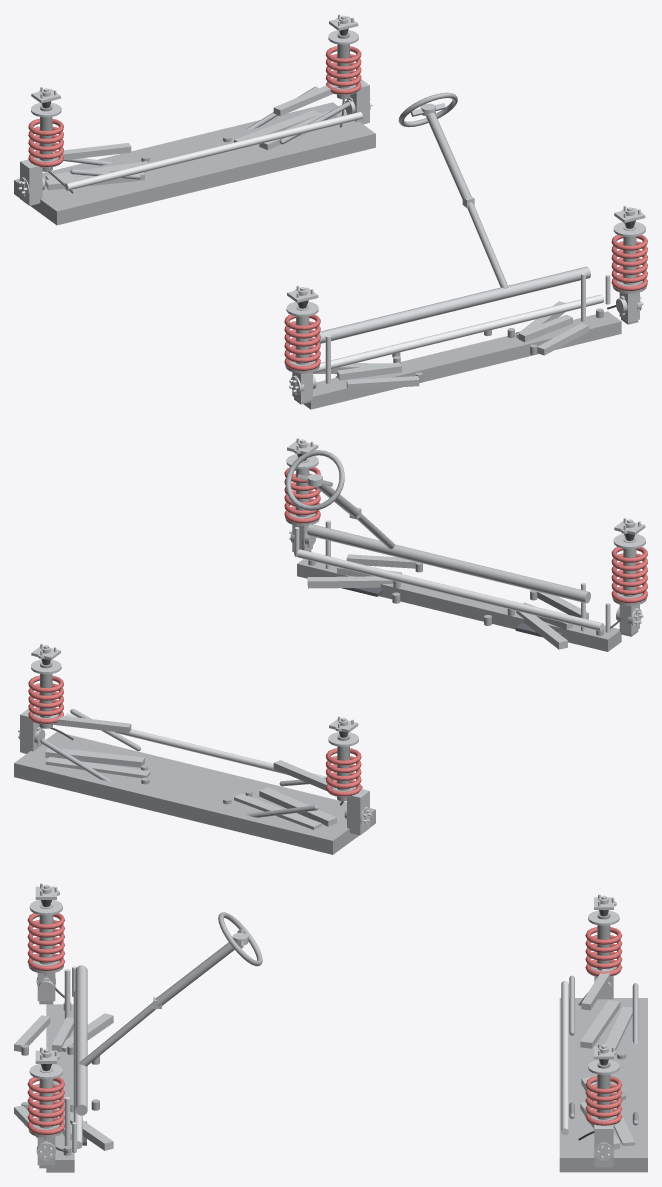
Rendered from susp.glb.
3 renders of one model, top to bottom at view 1: azimuth 30°, elevation 25°; view 2: azimuth 150°, elevation 25°; view 3: azimuth 270°, elevation 25°, orthographic. The views are drawn at different scales.
Visible parts, largest first — view 1: rearSubframe, frontSubframe, steeringRack, frontAntiRollBar, rearAntiRollBar, steeringColumnUpper, frontLowerControlArmLeft_fwd, rearWheelCarrierLeft_body, steeringColumnLower, rearArmUpper_Left, steeringWheelRim, frontLowerControlArmLeft_aft (+5 smaller); view 2: rearSubframe, frontSubframe, steeringRack, frontAntiRollBar, rearAntiRollBar, steeringWheelRim, rearArmLower_Right, frontTrailingArmRight_arm, rearArmLower_Left, rearTrailingArmRight_arm, rearArmUpper_Right, rearWheelCarrierLeft_body (+5 smaller); view 3: rearSubframe, frontSubframe, steeringRack, rearAntiRollBar, steeringColumnUpper, rearArmLower_Left, steeringWheelRim, steeringColumnLower, frontAntiRollBar, rearWheelCarrierRight_body, rearTrailingArmLeft_arm, rearArmUpper_Left (+7 smaller).
Part boxes in pixels (x1,y1,x2,y2): rearSubframe: (14, 102, 375, 225); frontSubframe: (303, 311, 621, 409); steeringRack: (311, 266, 590, 345); frontAntiRollBar: (313, 294, 604, 373); rearAntiRollBar: (64, 111, 362, 190); steeringColumnUpper: (426, 112, 471, 203); frontLowerControlArmLeft_fwd: (346, 376, 419, 390); rearWheelCarrierLeft_body: (20, 159, 42, 205); steeringColumnLower: (467, 202, 508, 288); rearArmUpper_Left: (53, 143, 131, 160); steeringWheelRim: (398, 92, 457, 127); frontLowerControlArmLeft_aft: (337, 362, 401, 380); rearSubframe: (14, 732, 375, 854); frontSubframe: (297, 559, 621, 651); steeringRack: (307, 524, 590, 603); frontAntiRollBar: (297, 549, 603, 631); rearAntiRollBar: (65, 713, 362, 788); steeringWheelRim: (285, 450, 344, 510); rearArmLower_Right: (45, 747, 144, 767); frontTrailingArmRight_arm: (307, 576, 393, 588); rearArmLower_Left: (259, 787, 336, 826); rearTrailingArmRight_arm: (45, 756, 150, 778); rearArmUpper_Right: (49, 715, 131, 733); rearWheelCarrierLeft_body: (347, 789, 369, 834); rearSubframe: (559, 998, 647, 1172); frontSubframe: (46, 1004, 74, 1172); steeringRack: (75, 965, 87, 1115); rearAntiRollBar: (561, 981, 568, 1135); steeringColumnUpper: (155, 942, 234, 1006); rearArmLower_Left: (580, 1000, 620, 1048); steeringWheelRim: (218, 912, 262, 966); steeringColumnLower: (79, 1002, 155, 1066); frontAntiRollBar: (73, 991, 82, 1148); rearWheelCarrierRight_body: (594, 1124, 613, 1167); rearTrailingArmLeft_arm: (604, 1006, 632, 1050); rearArmUpper_Left: (581, 969, 612, 1010).
Size of the model in its own units: 2.41 by 1.3 by 3.59.
